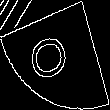O_E: (30, 26, 80, 84)
